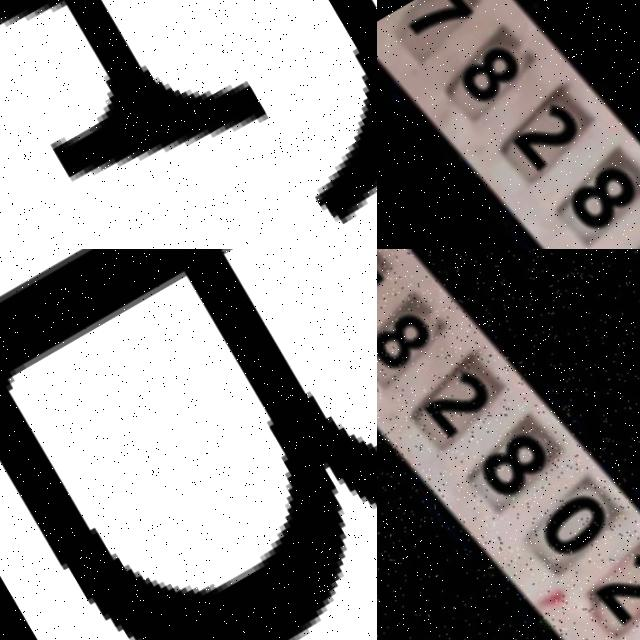0: (517, 457, 640, 576)
2: (492, 73, 607, 183), (403, 340, 518, 450), (574, 516, 640, 636)
7: (383, 0, 496, 67), (377, 249, 407, 334)
8: (453, 396, 582, 519), (434, 12, 549, 121), (542, 128, 640, 249), (377, 278, 460, 388)
B: (0, 249, 377, 640)
F: (0, 0, 377, 249)
